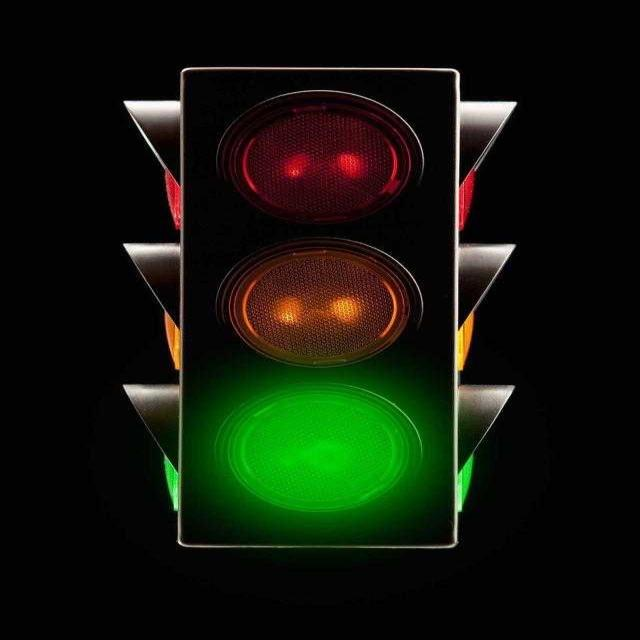Traffic Light -Green-: (142, 55, 496, 560)
